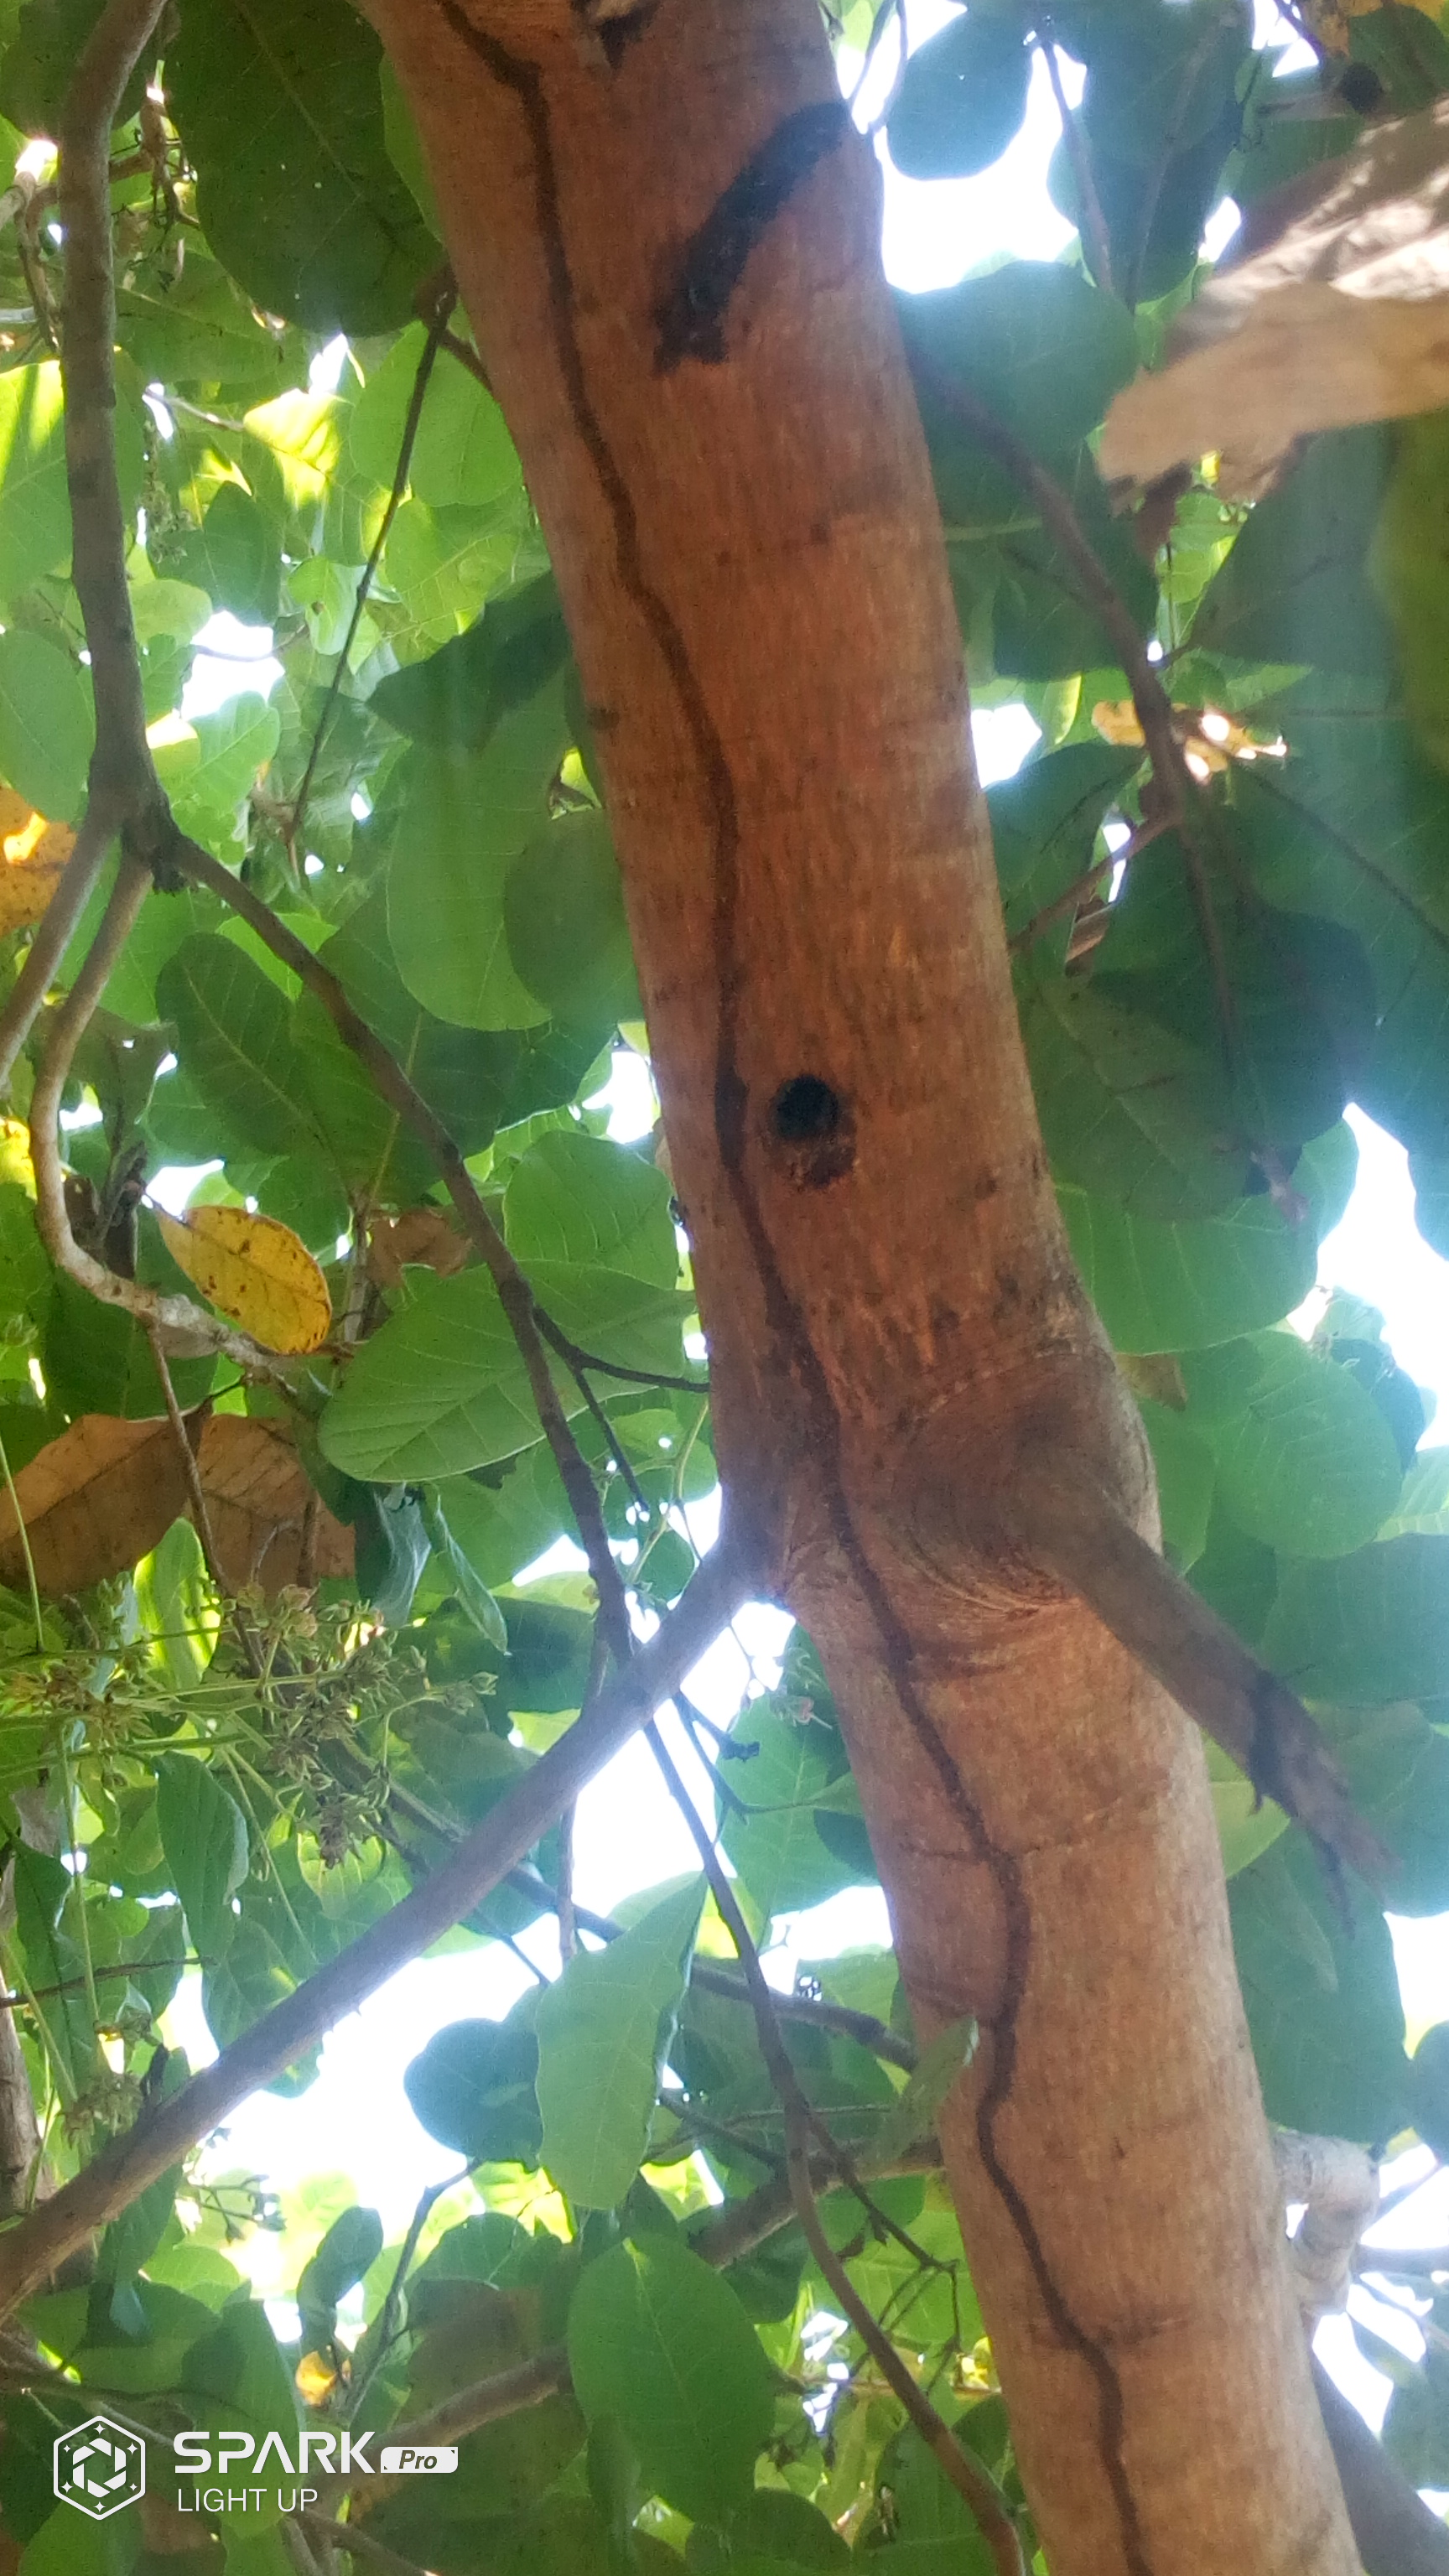Apate terebrans: (672, 1031, 1012, 1224)
